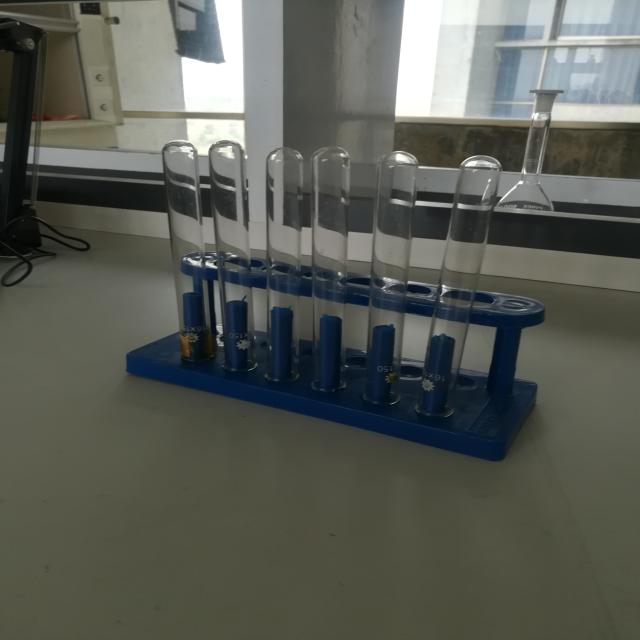Test_Tube: (119, 95, 509, 448)
